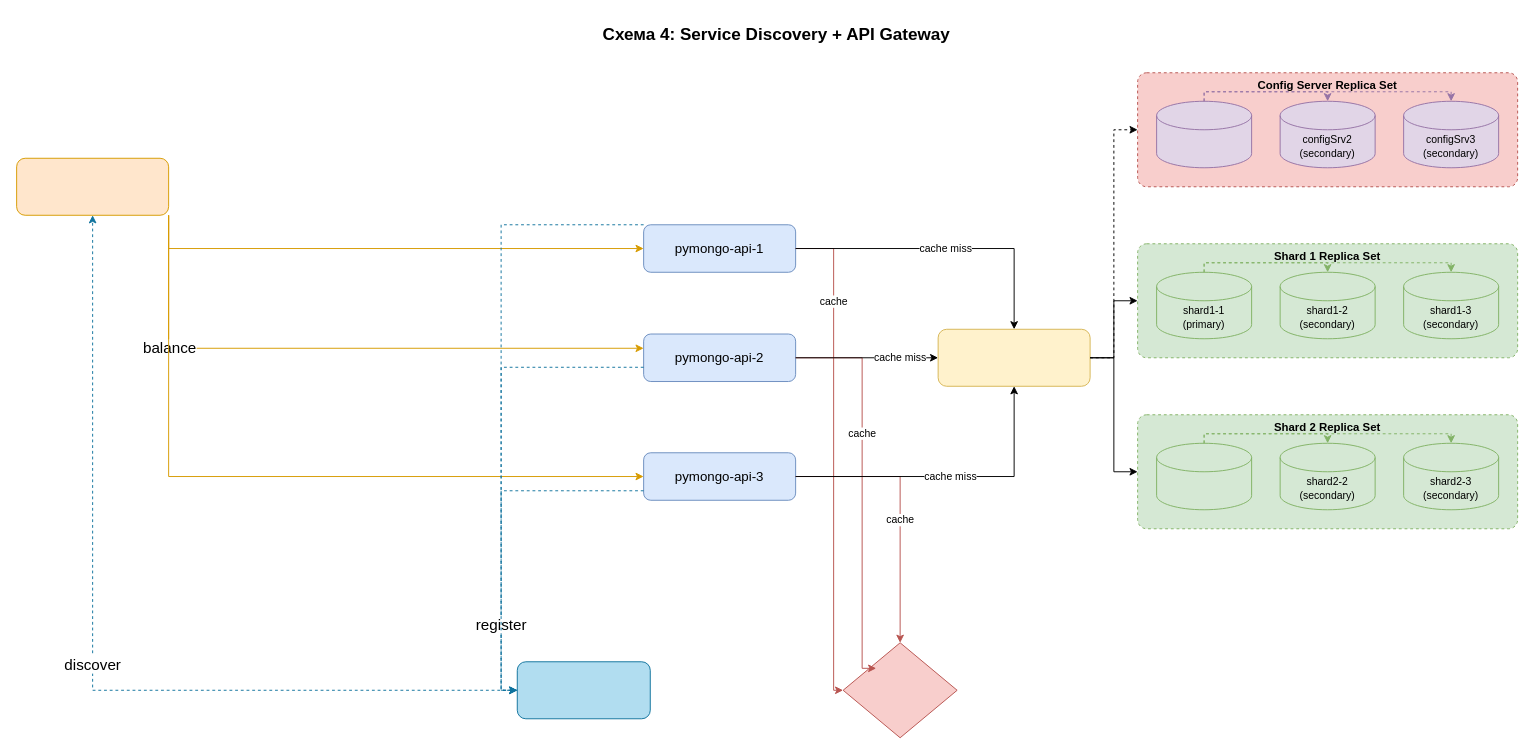
Image size: 1534x755. Some labels were removed from this diagram. The centre of each missing label's shape, as x and y in pixels:
"API Gateway (Nginx) Принимает запросы" belongs at point (92, 186).
"configSrv1 (primary)" belongs at point (1204, 134).
"Consul" belongs at point (583, 690).
"mongos_router" belongs at point (1013, 357).
"redis" belongs at point (899, 690).
"shard2-1 (primary)" belongs at point (1204, 476).
